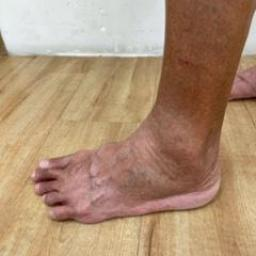Lateral View -Left Foot-: (15, 97, 238, 238)
